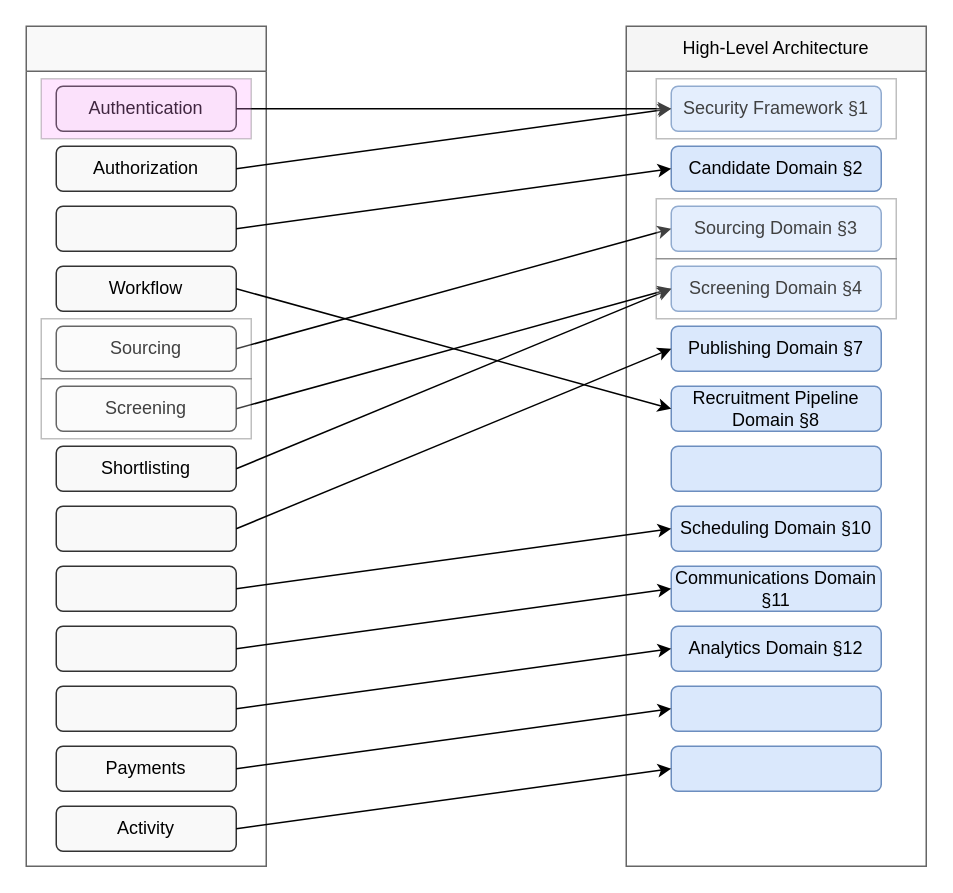
Image size: 953x893. Some labels were removed from this diagram. The box of each missing label's shape, as (x1, y1, x2, y2) in pixels:
Audit Domain §15: (670, 745, 881, 791)
Data Analytics: (55, 685, 236, 731)
Financial Domain §13: (670, 685, 881, 731)
Interview Domain §9: (670, 445, 881, 491)
Notifications: (55, 625, 236, 671)
Publishing: (55, 505, 236, 551)
Registration: (55, 205, 236, 251)
Scheduling: (55, 565, 236, 611)
Technology Concept: (25, 25, 266, 866)
